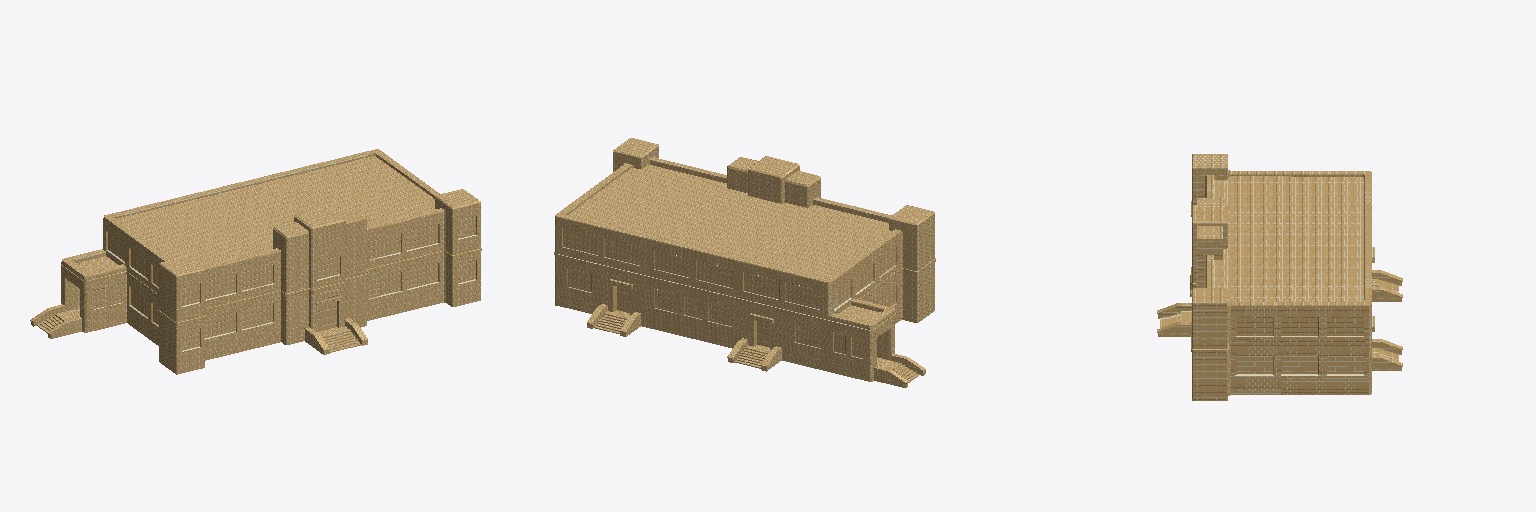
3 views of the same model, side by side, from view 1: azimuth 30°, elevation 25°; view 2: azimuth 150°, elevation 25°; view 3: azimuth 270°, elevation 25° (orthographic).
Parts seen in each view (by area): view 1: model; view 2: model; view 3: model.
Part boxes in pixels (bbox=[...]): model: bbox=[30, 149, 481, 374]; model: bbox=[554, 138, 935, 387]; model: bbox=[1157, 154, 1402, 400].
Bounding box in the file's own units: 3622 × 1086 × 2113.
Materials: 5 (1 with a texture image).